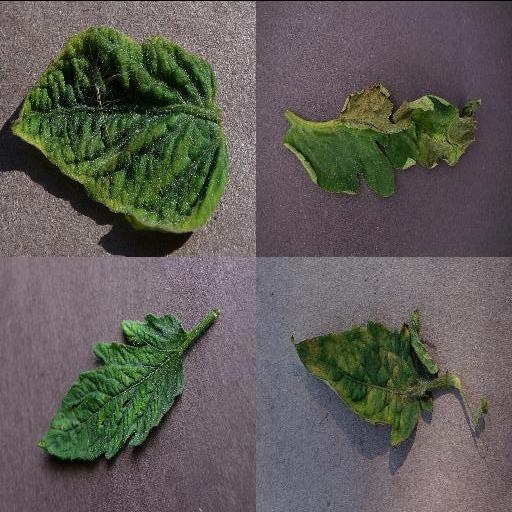Late Blight: (285, 83, 485, 197)
Leaf Mold: (290, 306, 442, 445)
Mosaic Virus: (33, 311, 187, 461)
Yellow Leaf Curl Virus: (10, 23, 226, 231)
